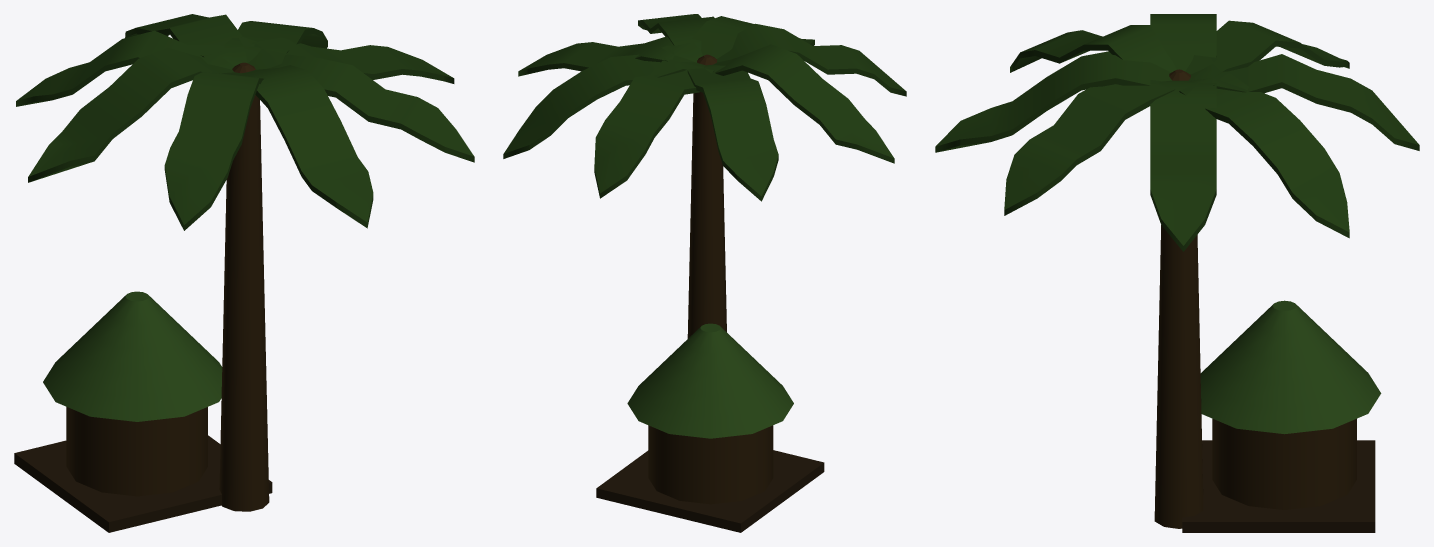
Rendered from Base_Draft.fbx.
3 renders of one model, left to right at view 1: azimuth 30°, elevation 25°; view 2: azimuth 150°, elevation 25°; view 3: azimuth 270°, elevation 25°, orthographic. The views are drawn at different scales.
Visible parts, largest first — view 1: Cylinder004, Cone001, Cylinder003, Box013, Box012, Box015, Box001, Box009, Box010, Box016, Box014, Box011; view 2: Cone001, Cylinder003, Cylinder004, Box010, Box001, Box014, Box015, Box011, Box012, Box016, Box013, Box009; view 3: Cone001, Cylinder004, Cylinder003, Box016, Box011, Box009, Box001, Box013, Box014, Box012, Box010, Box015.
Part boxes in pixels (<box>): Cylinder004: <box>219,62,269,511</box>; Cone001: <box>43,291,222,421</box>; Cylinder003: <box>66,407,207,496</box>; Box013: <box>242,65,373,228</box>; Box012: <box>164,71,263,230</box>; Box015: <box>28,47,234,182</box>; Box001: <box>14,435,272,532</box>; Box009: <box>268,54,474,162</box>; Box010: <box>16,30,234,106</box>; Box016: <box>248,37,454,83</box>; Box014: <box>125,14,259,66</box>; Box011: <box>224,21,327,63</box>; Cone001: <box>627,323,793,438</box>; Cylinder003: <box>648,425,773,504</box>; Cylinder004: <box>687,54,726,338</box>; Box010: <box>687,64,778,201</box>; Box001: <box>596,450,824,532</box>; Box014: <box>594,58,714,198</box>; Box015: <box>713,44,894,163</box>; Box011: <box>503,45,695,158</box>; Box012: <box>717,23,906,96</box>; Box016: <box>518,36,702,76</box>; Box013: <box>691,16,814,58</box>; Box009: <box>638,14,714,49</box>; Cone001: <box>1200,300,1381,434</box>; Cylinder004: <box>1154,69,1203,528</box>; Cylinder003: <box>1212,418,1356,509</box>; Box016: <box>1150,80,1216,251</box>; Box011: <box>1179,71,1349,238</box>; Box009: <box>1004,80,1174,215</box>; Box001: <box>1182,440,1375,532</box>; Box013: <box>935,51,1171,152</box>; Box014: <box>1189,54,1419,150</box>; Box012: <box>1010,25,1176,72</box>; Box010: <box>1185,20,1349,74</box>; Box015: <box>1150,14,1216,71</box>.
Size of the model in its own units: 1.51 by 1.54 by 1.46.
